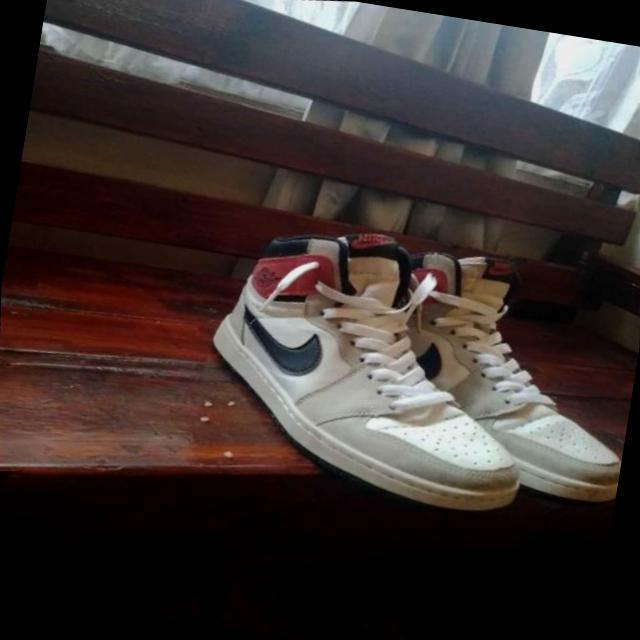nike_fake_jordan: (162, 188, 564, 554), (323, 209, 640, 537)
